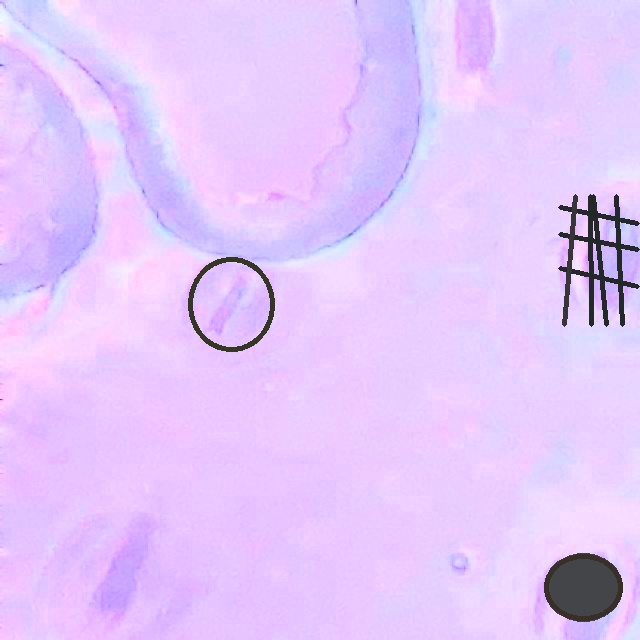open: (558, 194, 639, 326), (187, 257, 275, 351), (544, 552, 622, 622)
